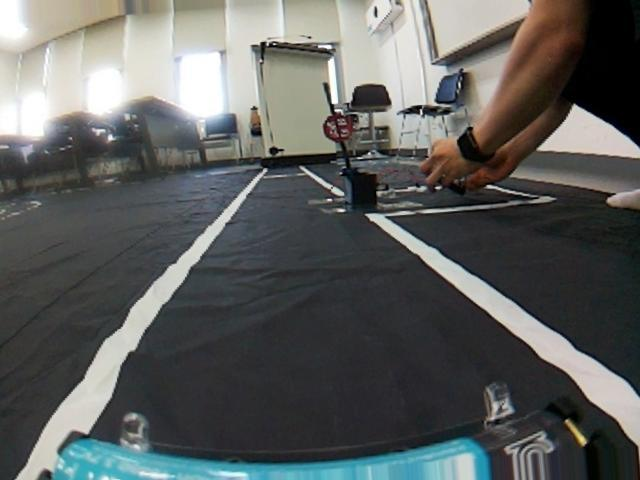sign_stop: (321, 110, 356, 141)
straight: (0, 206, 640, 480)
